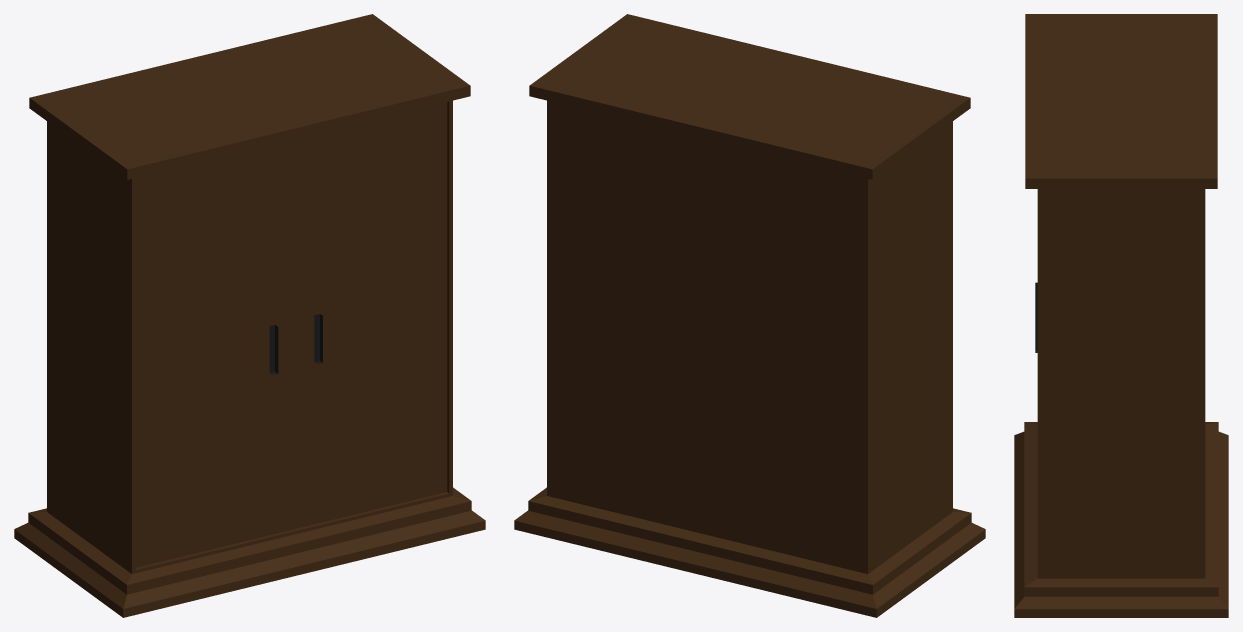
File: armario.fbx
3 views of the same model, side by side, from view 1: azimuth 30°, elevation 25°; view 2: azimuth 150°, elevation 25°; view 3: azimuth 270°, elevation 25° (orthographic).
Visible parts, largest first — view 1: Criado_mudo; view 2: Criado_mudo; view 3: Criado_mudo.
Boxes of the visible parts, bbox=[...] form: Criado_mudo: bbox=[14, 14, 485, 617]; Criado_mudo: bbox=[514, 14, 985, 617]; Criado_mudo: bbox=[1014, 14, 1228, 617].
Bounding box in the file's own units: 114 × 133 × 59.44.
